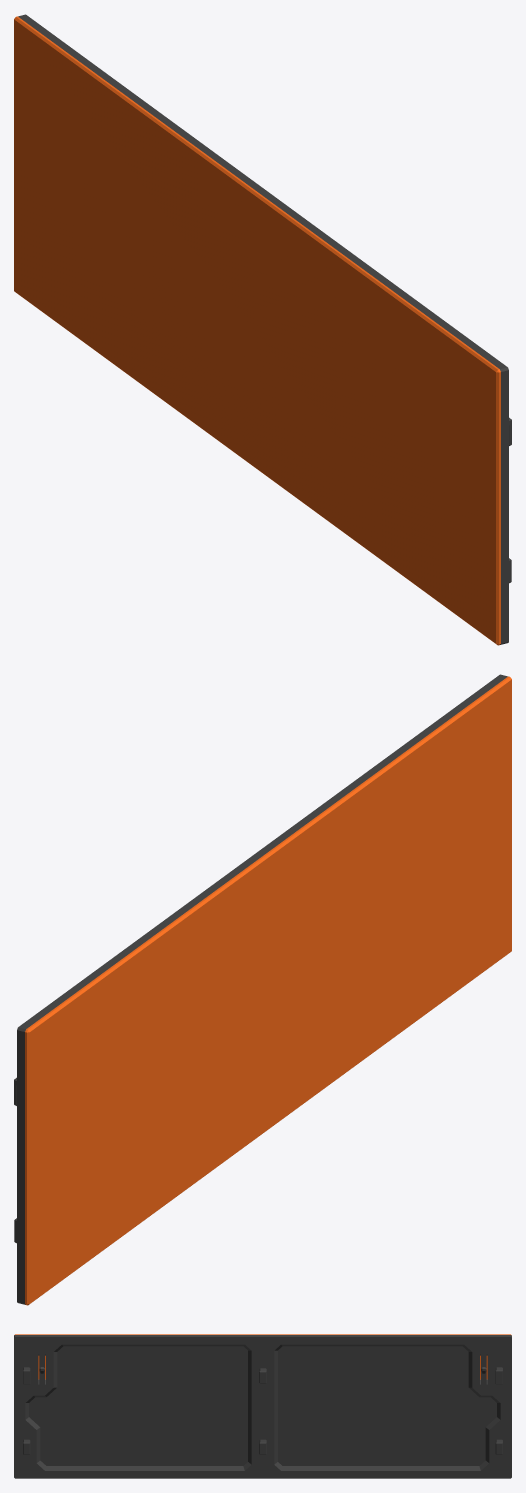
The model's file is SideCover_185-1H.lib.glb.
3 views of the same model, one above another, from view 1: azimuth 30°, elevation 25°; view 2: azimuth 150°, elevation 25°; view 3: azimuth 270°, elevation 25° (orthographic). The views are drawn at different scales.
Visible parts, largest first — view 1: SideCover_185-1H; view 2: SideCover_185-1H; view 3: SideCover_185-1H.
Part boxes in pixels (x1=…): SideCover_185-1H: x1=14, y1=14, x2=511, y2=645; SideCover_185-1H: x1=14, y1=674, x2=511, y2=1305; SideCover_185-1H: x1=14, y1=1334, x2=511, y2=1478.
Size of the model in its own units: 5.06 by 55.6 by 177.
